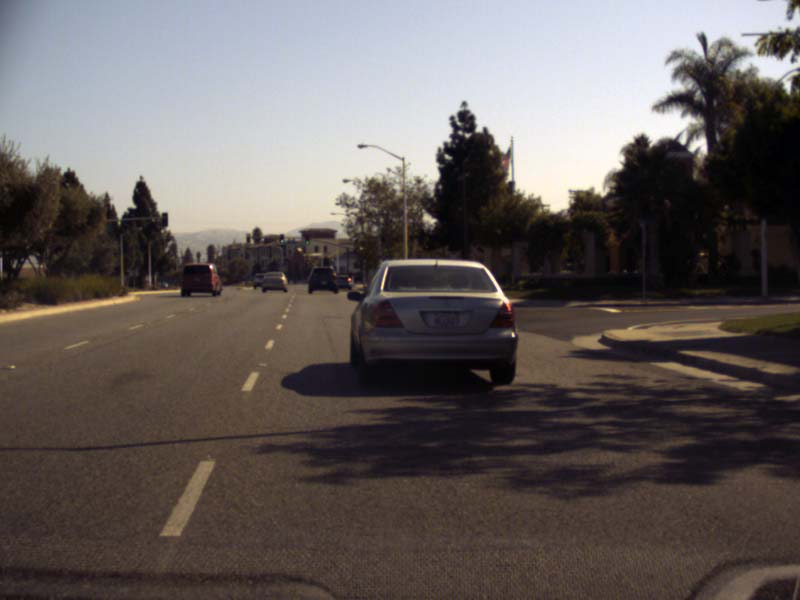Green: (305, 235, 309, 244), (280, 235, 283, 243)
